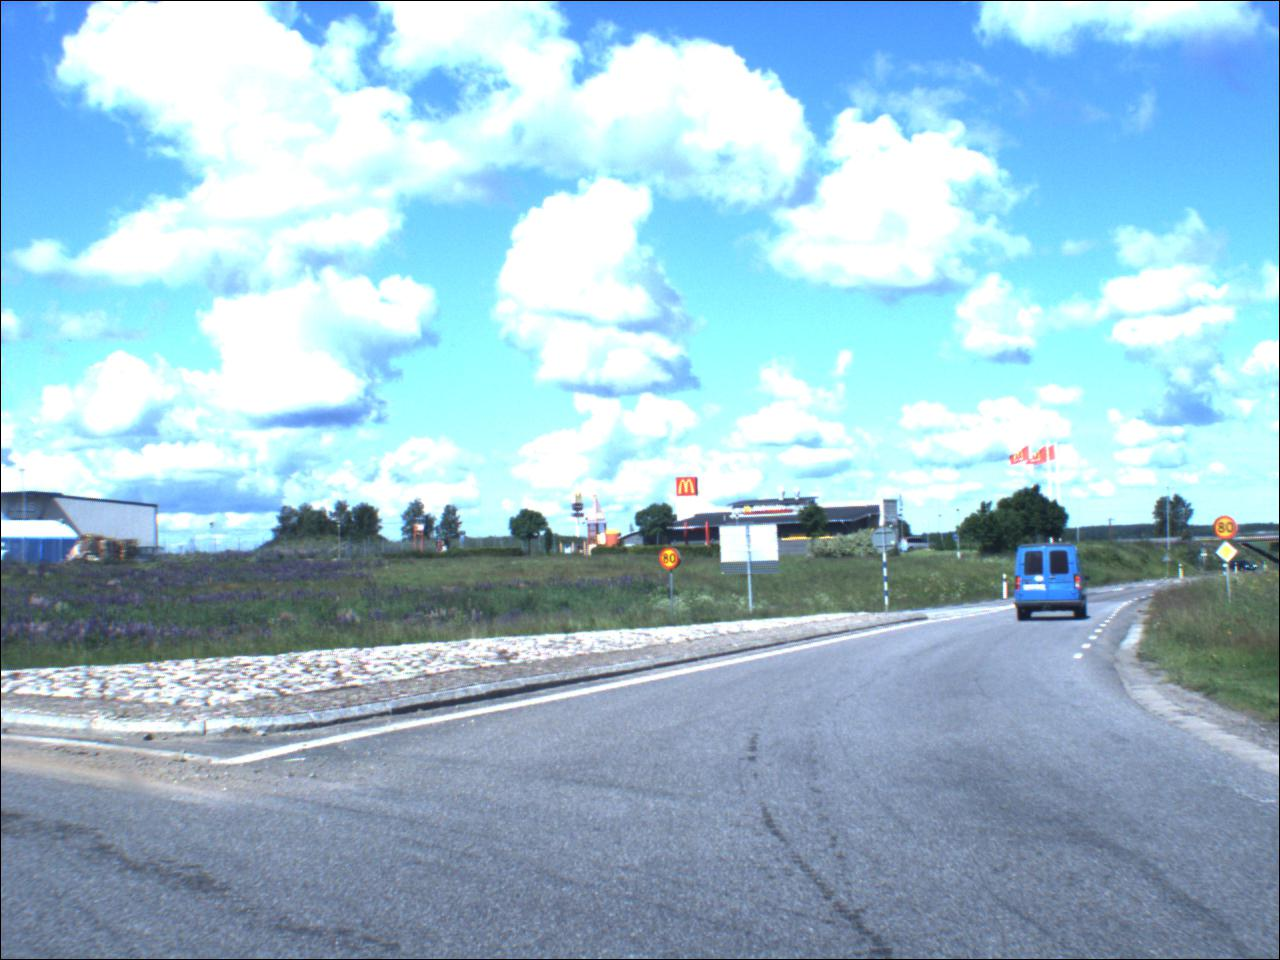80_SIGN: (1215, 518, 1242, 542), (661, 548, 684, 572)
PRIORITY_ROAD: (1210, 541, 1243, 568)
